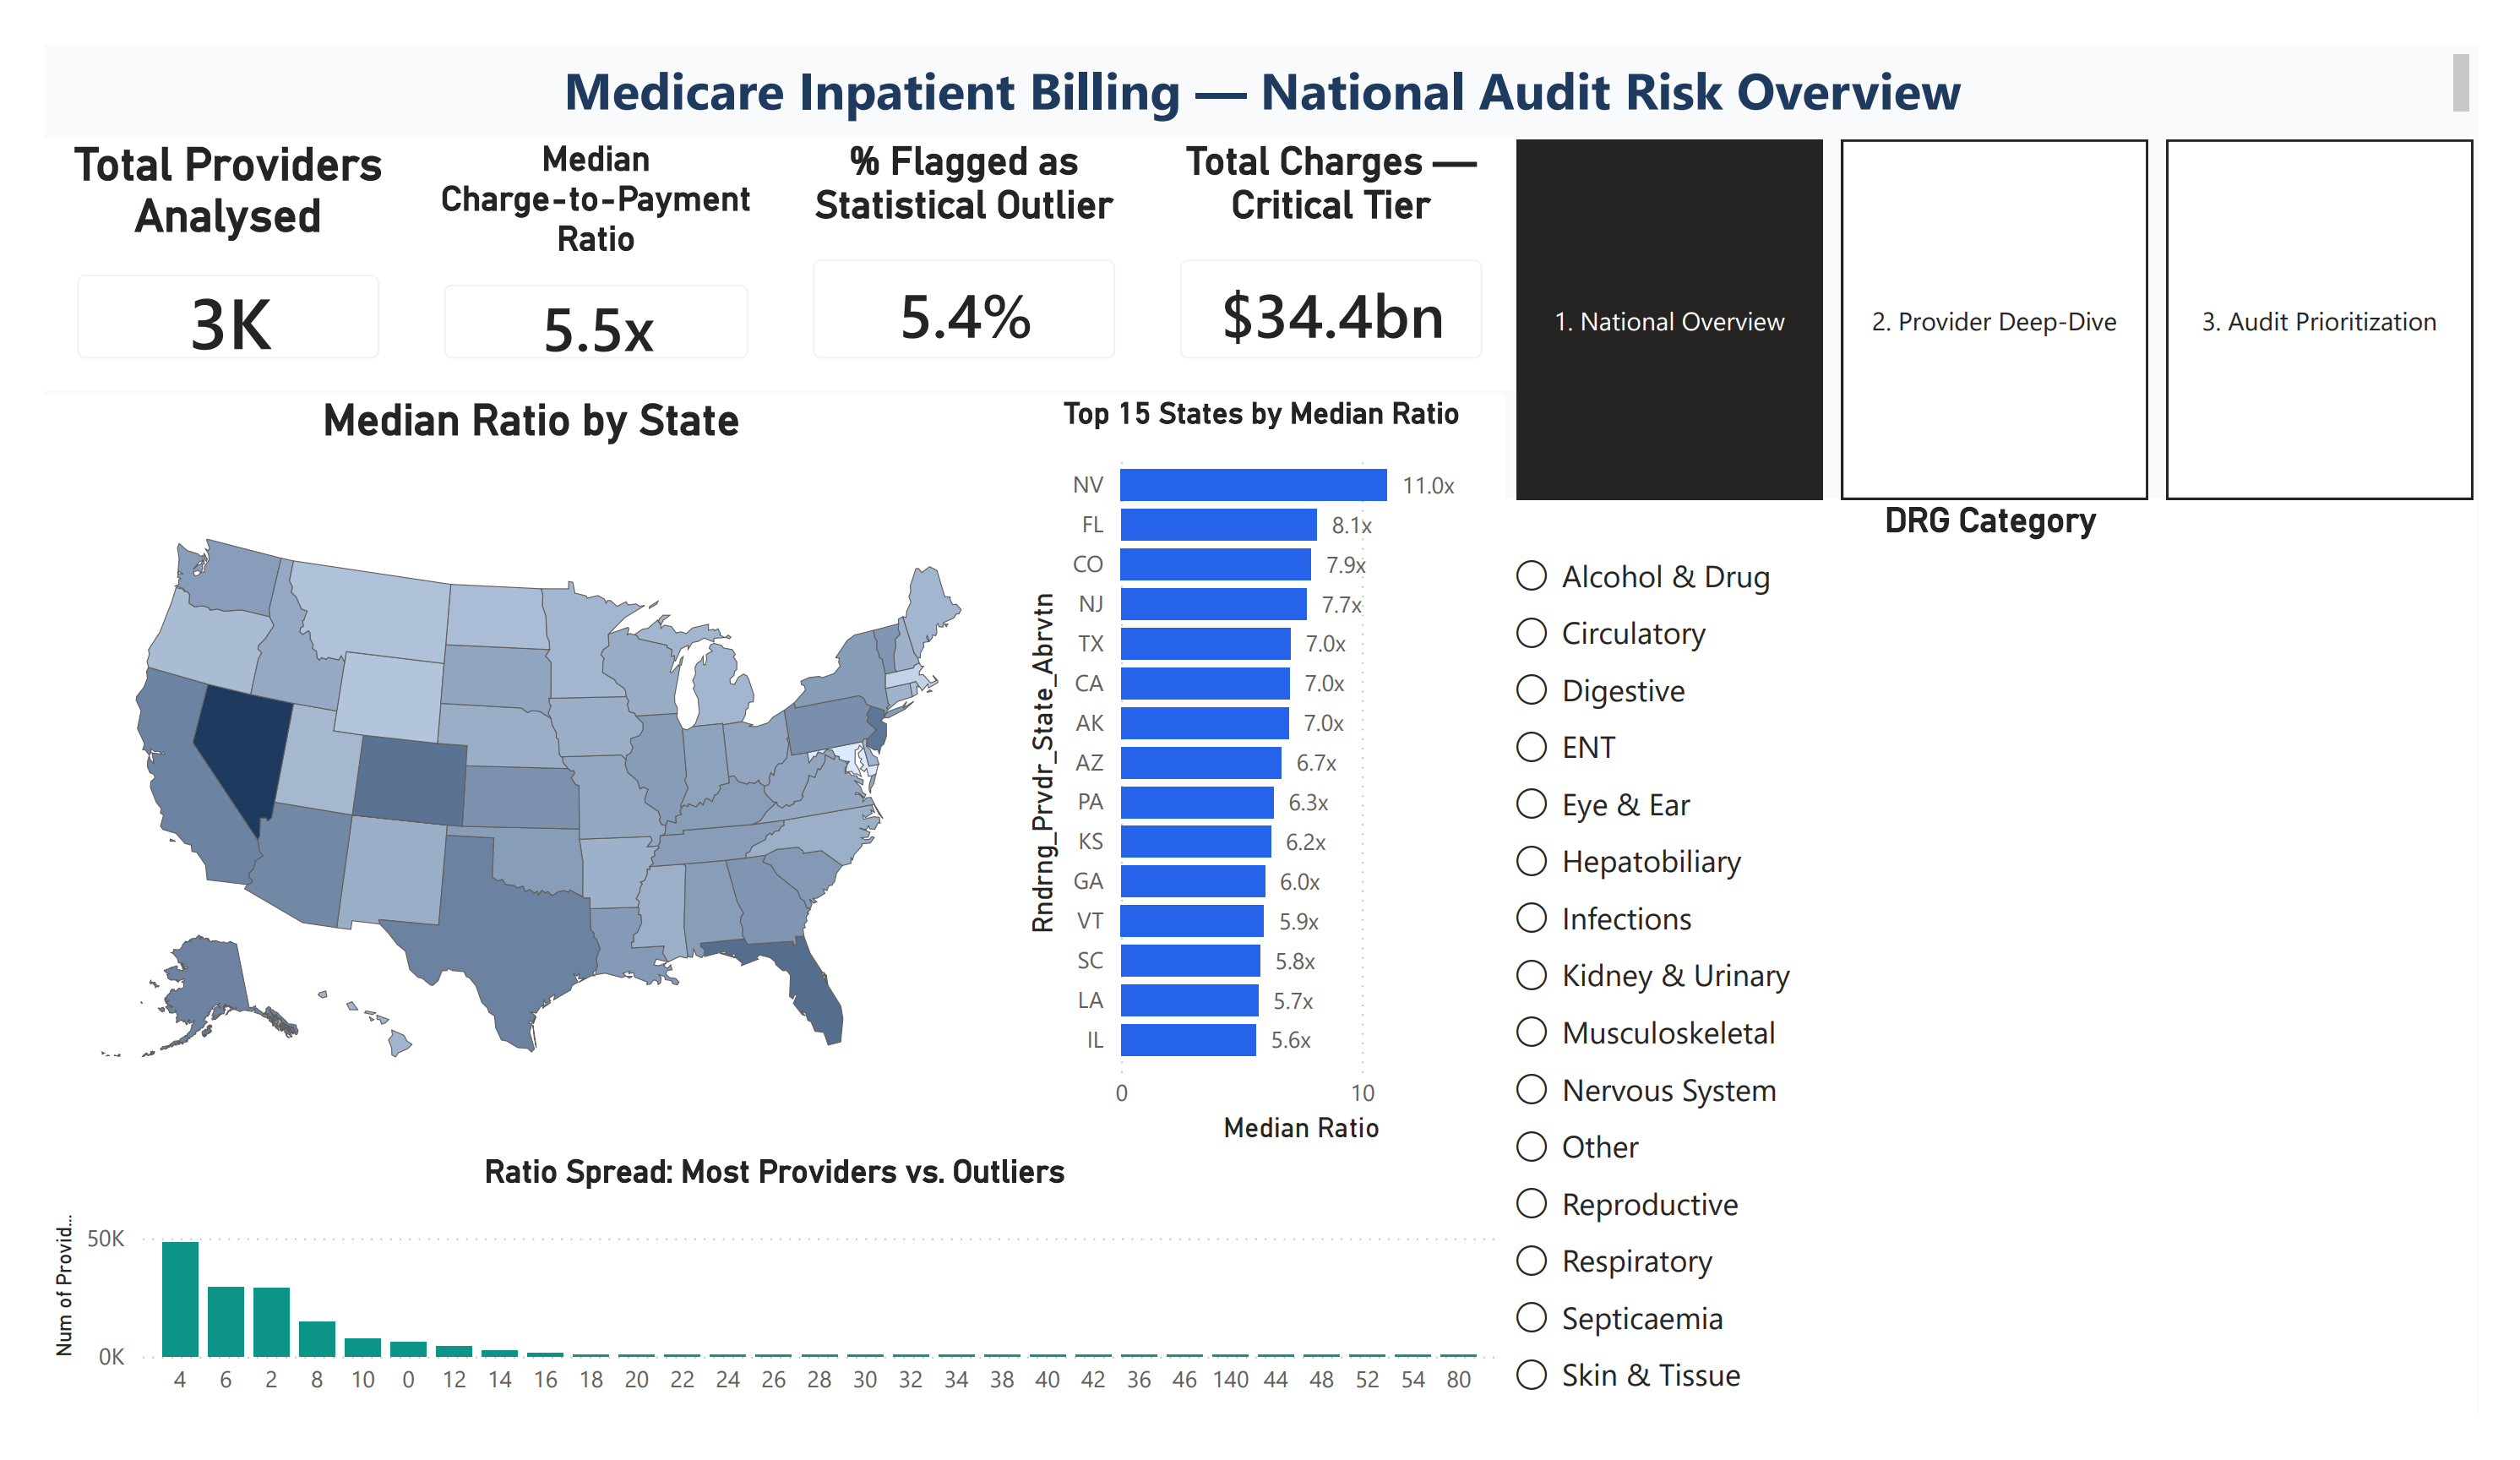

Layout of this report page (visuals, bound fields, positions):
{"tool":"powerbi","page":{"name":"1. National Overview","canvas":[1280,720],"ordinal":0},"visuals":[{"type":"textbox","box":[9.2,0,1270.6,50],"z":0},{"type":"cardVisual","title":"Total Providers Analysed","fields":{"Data":["CMS_Audit.Total Providers"]},"box":[0,49.3,193.3,132.7],"z":1},{"type":"cardVisual","title":"Median Charge-to-Payment Ratio","fields":{"Data":["CMS_Audit.Median Ratio"]},"box":[193.3,49.3,193.3,132.7],"z":2},{"type":"cardVisual","title":"% Flagged as Statistical Outlier","fields":{"Data":["CMS_Audit.Pct Outlier"]},"box":[386.7,49.3,193.3,132.7],"z":3},{"type":"cardVisual","title":"Total Charges — Critical Tier","fields":{"Data":["CMS_Audit.Critical Tier Charges"]},"box":[580,49.3,193.3,132.7],"z":4},{"type":"shapeMap","title":"Median Ratio by State","fields":{"Category":["CMS_Audit.Rndrng_Prvdr_State_Abrvtn"],"Value":["CMS_Audit.Median Ratio"]},"box":[0,183.9,511.8,398],"z":5},{"type":"clusteredBarChart","title":"Top 15 States by Median Ratio","fields":{"Category":["CMS_Audit.Rndrng_Prvdr_State_Abrvtn"],"Y":["CMS_Audit.Median Ratio"]},"box":[511.8,183.9,255.9,398],"z":6},{"type":"clusteredColumnChart","title":"Ratio Spread: Most Providers vs. Outliers","fields":{"Category":["CMS_Audit.Ratio_Bin"],"Y":["CountNonNull(CMS_Audit.Rndrng_Prvdr_CCN)"]},"box":[0,582,767.7,138],"z":7},{"type":"listSlicer","title":"DRG Category","fields":{"Values":["CMS_Audit.DRG_Category"]},"box":[768,239.4,511.4,480.7],"z":8},{"type":"pageNavigator","box":[773.8,49.8,505.6,189.6],"z":9}]}

Visuals, with their boxes in screenshot pixels (x1, y1, x2, y2), scaled from the page's 1280x720 canvas onto the 2520x1460 screenshot:
textbox: locate(18, 0, 2519, 101)
"Total Providers Analysed" cardVisual: locate(0, 100, 380, 369)
"Median Charge-to-Payment Ratio" cardVisual: locate(380, 100, 761, 369)
"% Flagged as Statistical Outlier" cardVisual: locate(761, 100, 1142, 369)
"Total Charges — Critical Tier" cardVisual: locate(1142, 100, 1522, 369)
"Median Ratio by State" shapeMap: locate(0, 373, 1008, 1180)
"Top 15 States by Median Ratio" clusteredBarChart: locate(1008, 373, 1511, 1180)
"Ratio Spread: Most Providers vs. Outliers" clusteredColumnChart: locate(0, 1180, 1511, 1459)
"DRG Category" listSlicer: locate(1512, 486, 2519, 1459)
pageNavigator: locate(1523, 101, 2519, 486)
